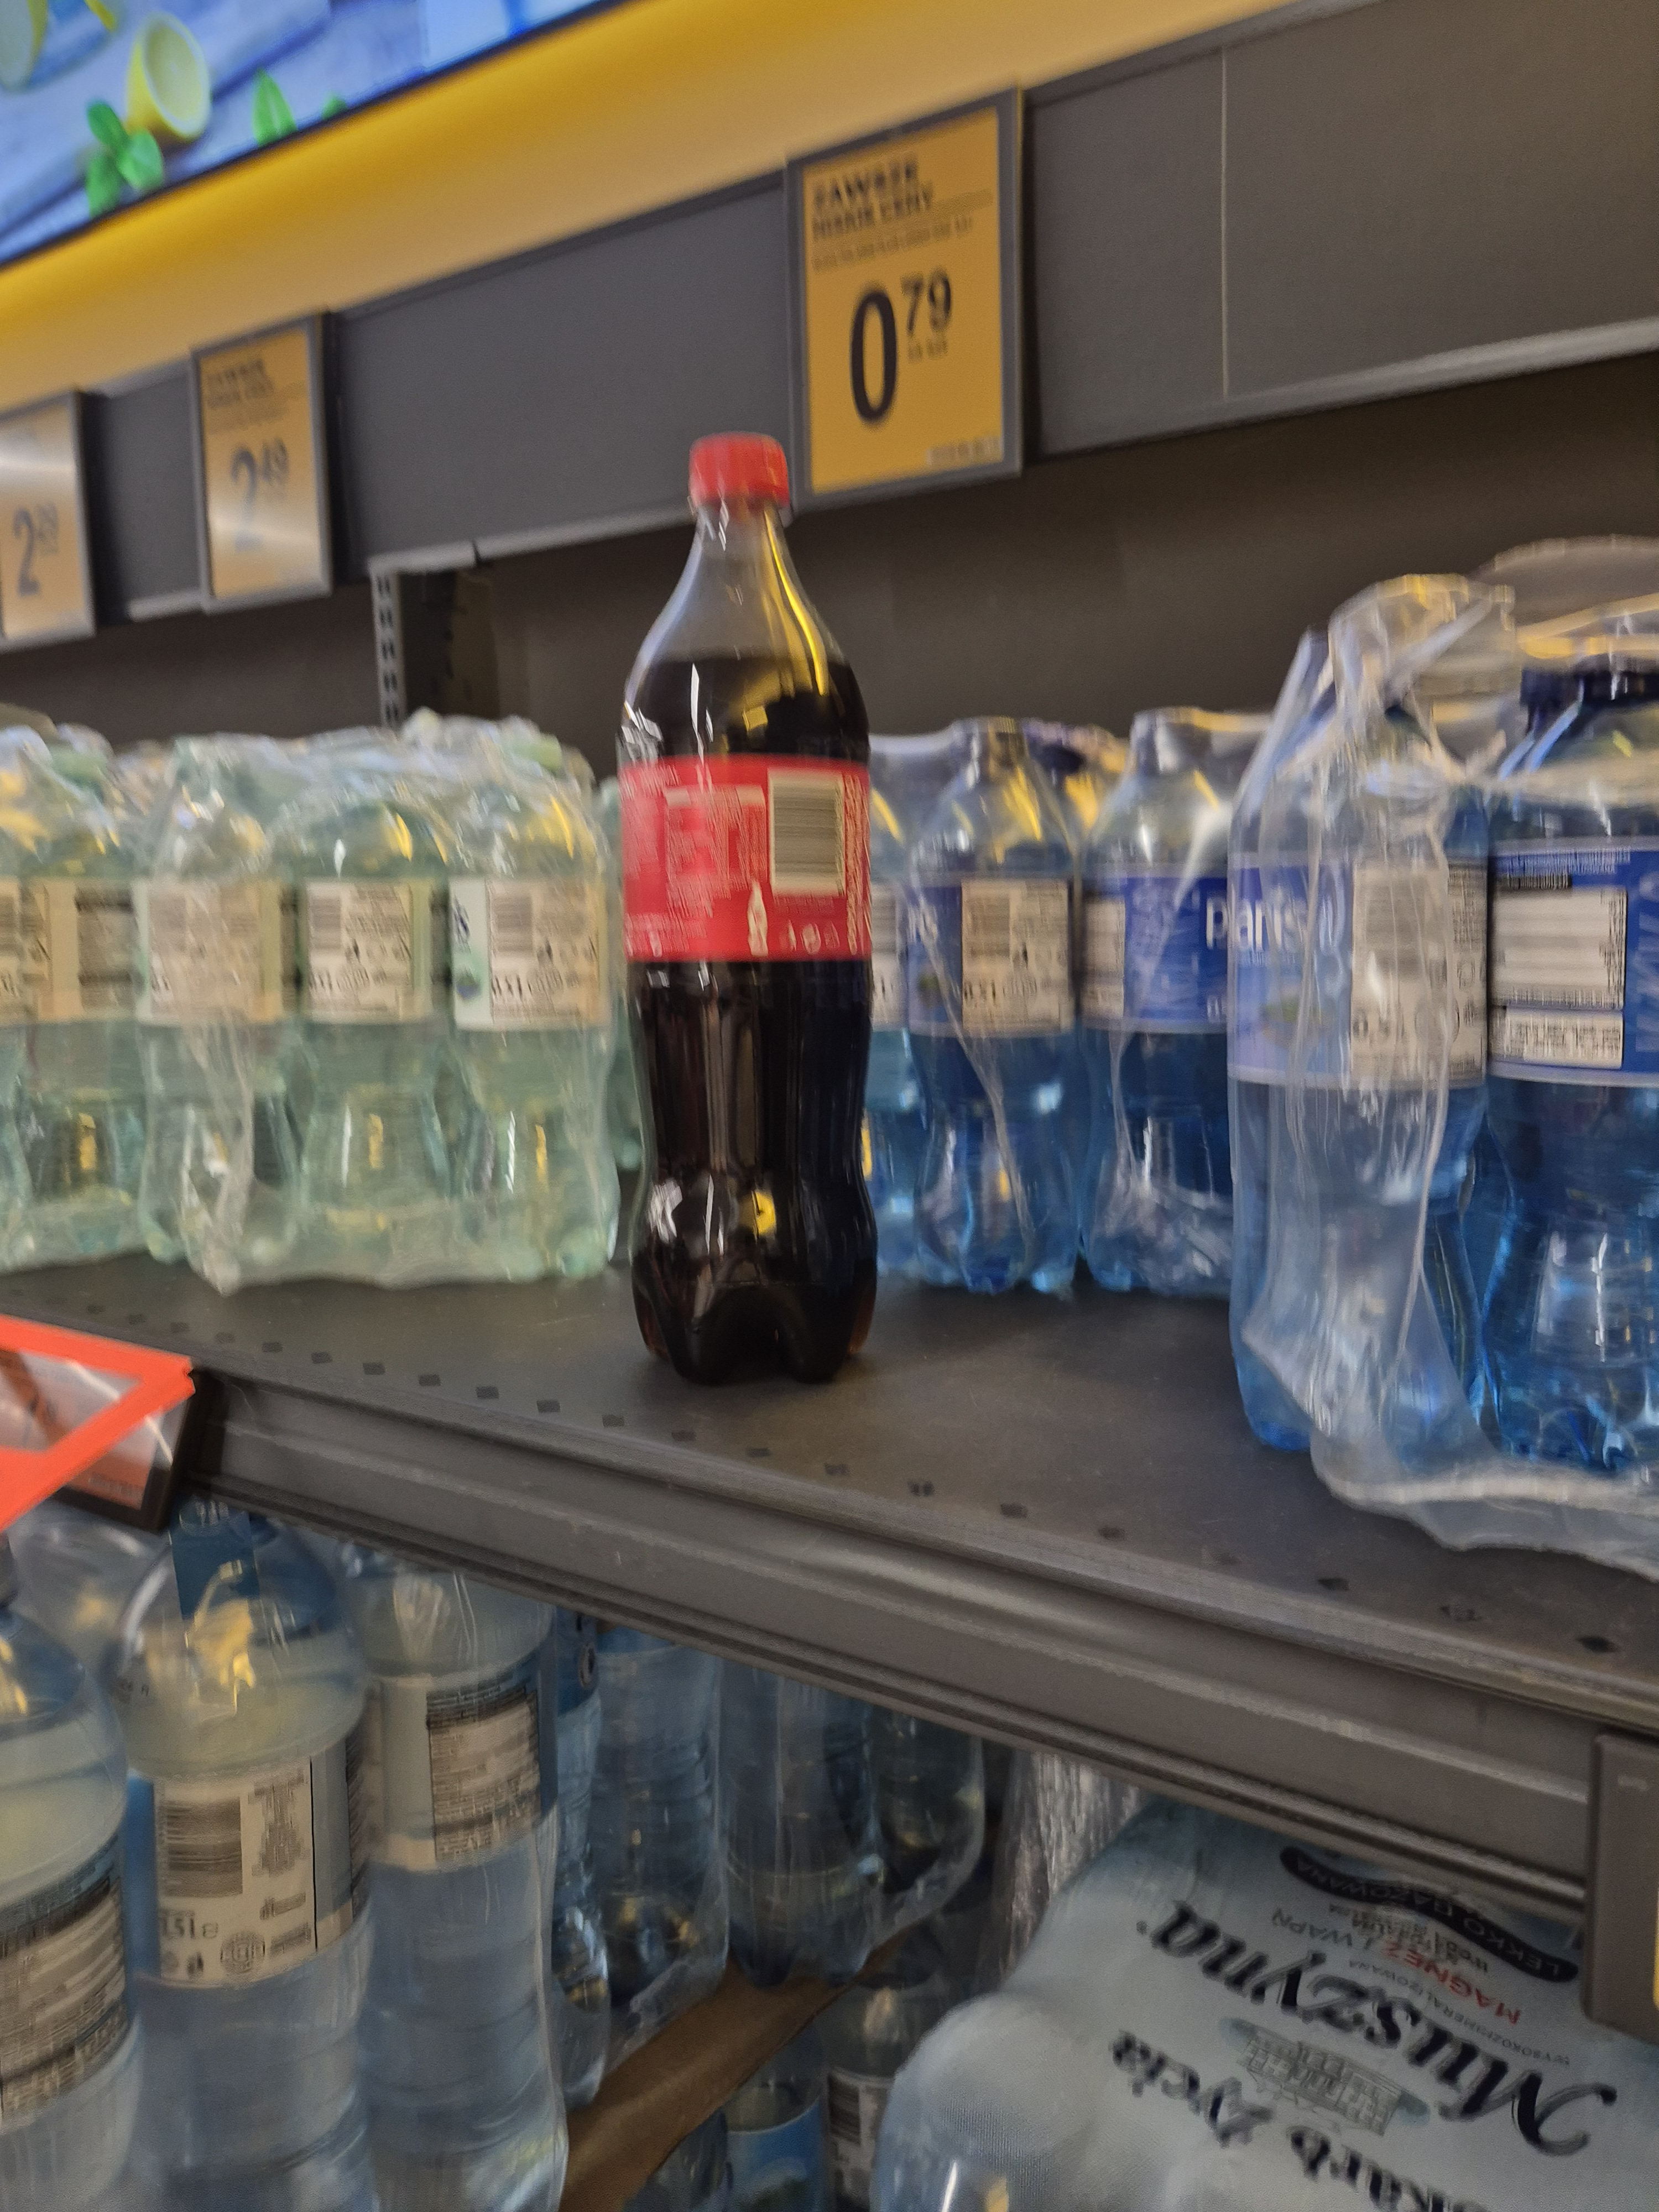Coca Cola: (619, 427, 910, 1390)
